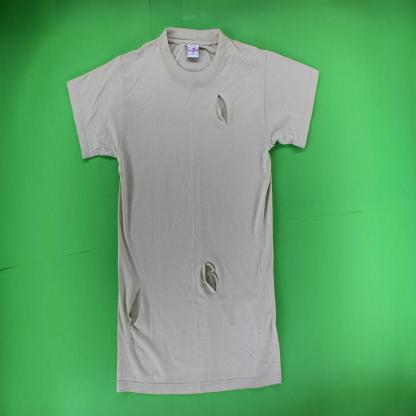hole: (127, 286, 143, 333), (203, 262, 218, 295), (216, 93, 229, 127)
